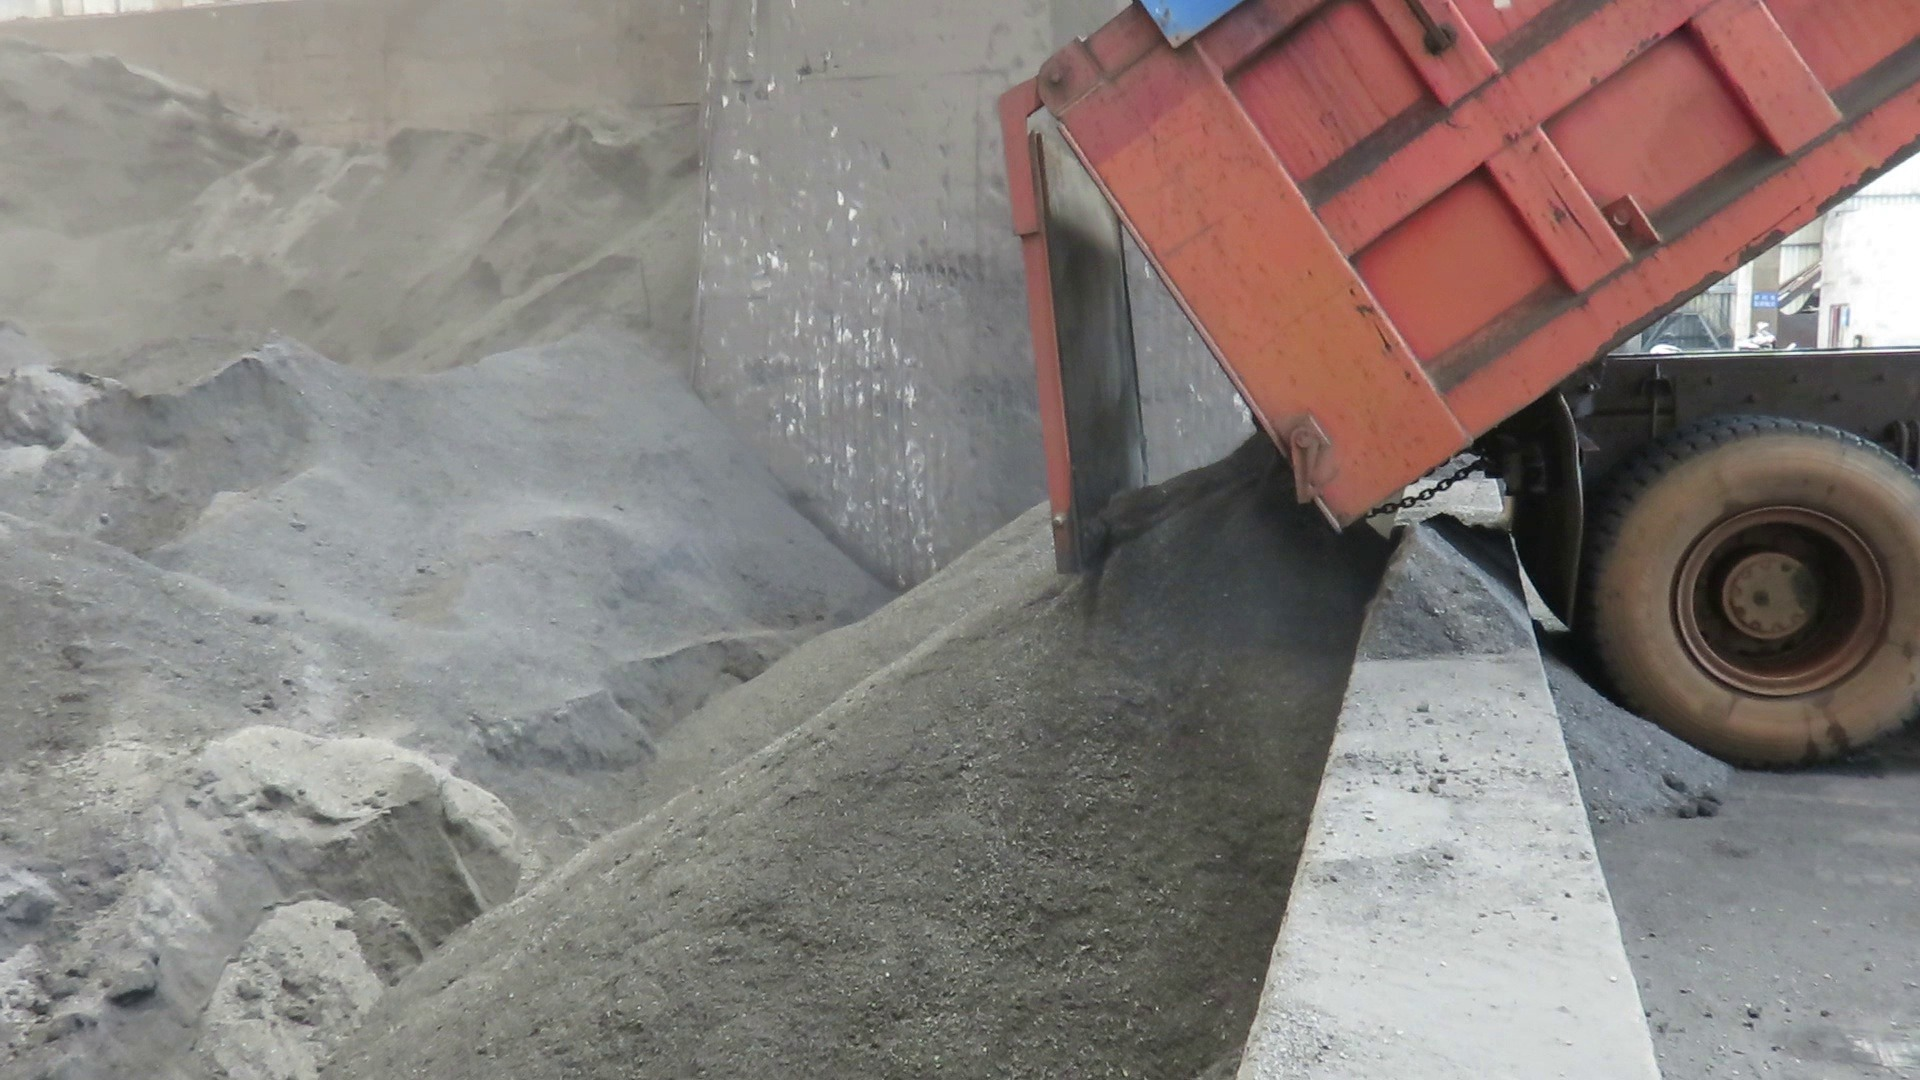dust: (8, 53, 969, 738)
truck: (982, 0, 1920, 786)
